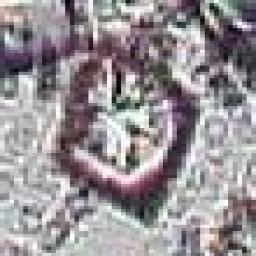crystals: (54, 47, 206, 236)
